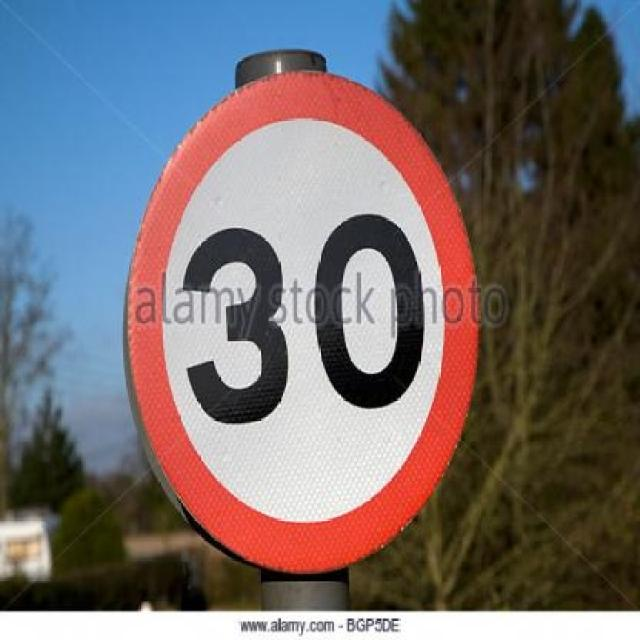forb_speed_over_30: (139, 84, 473, 567)
